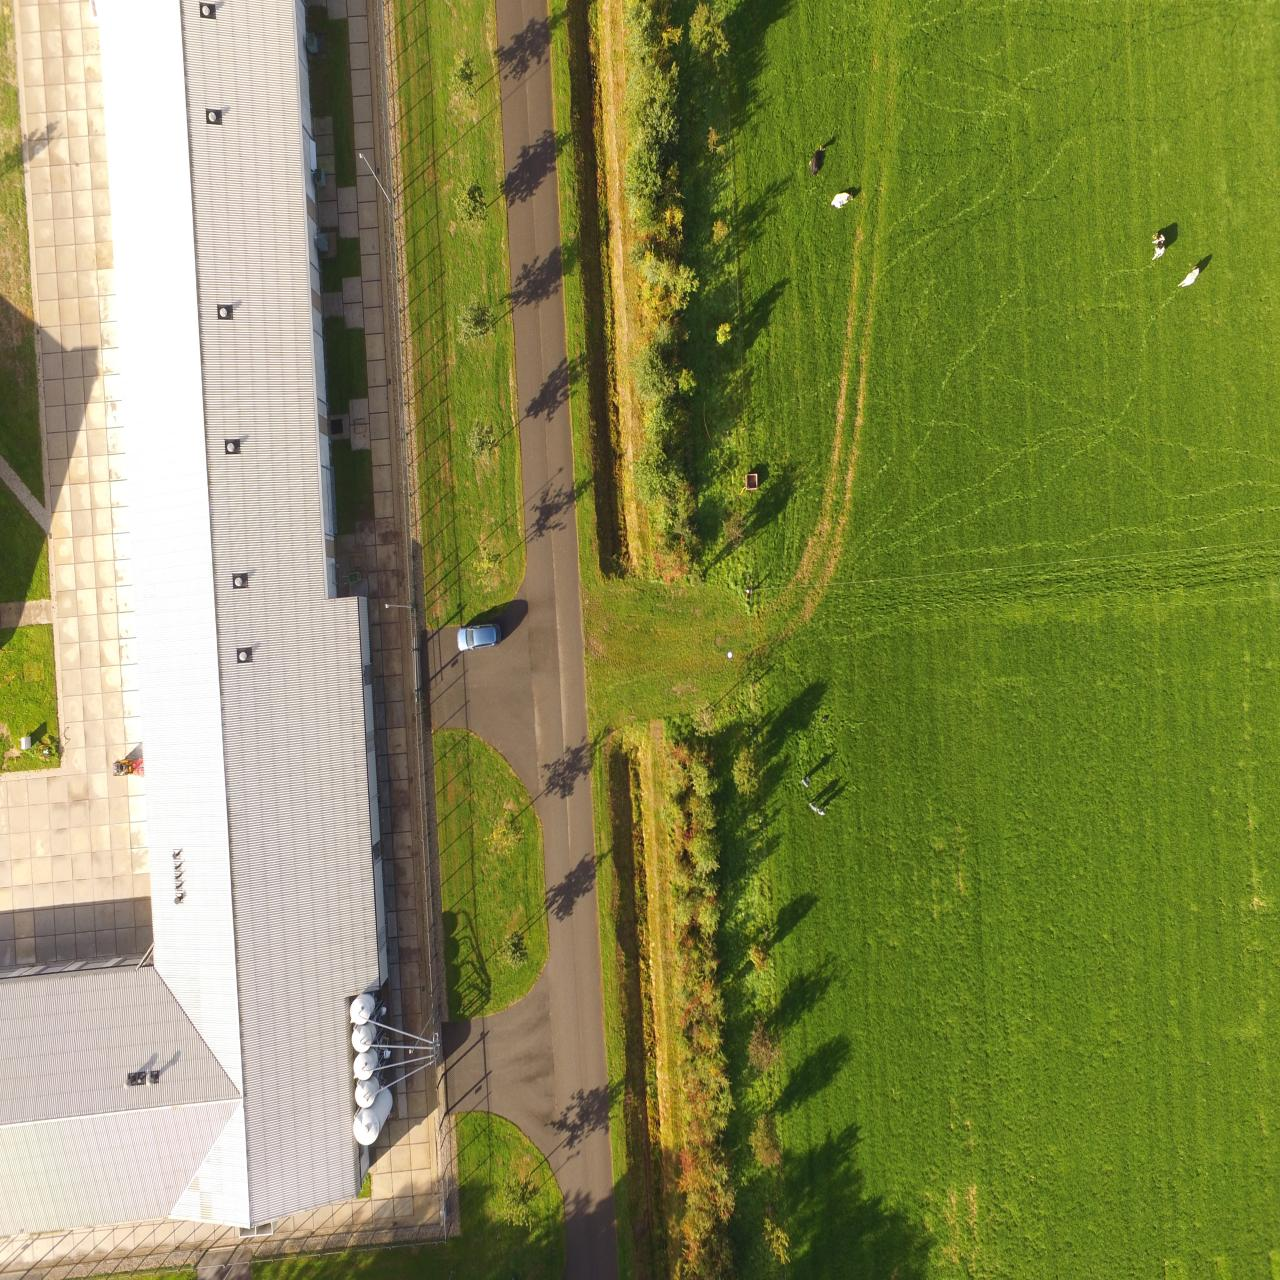cow: (810, 138, 826, 178), (1149, 231, 1167, 264), (1178, 264, 1199, 290), (828, 190, 855, 210)
